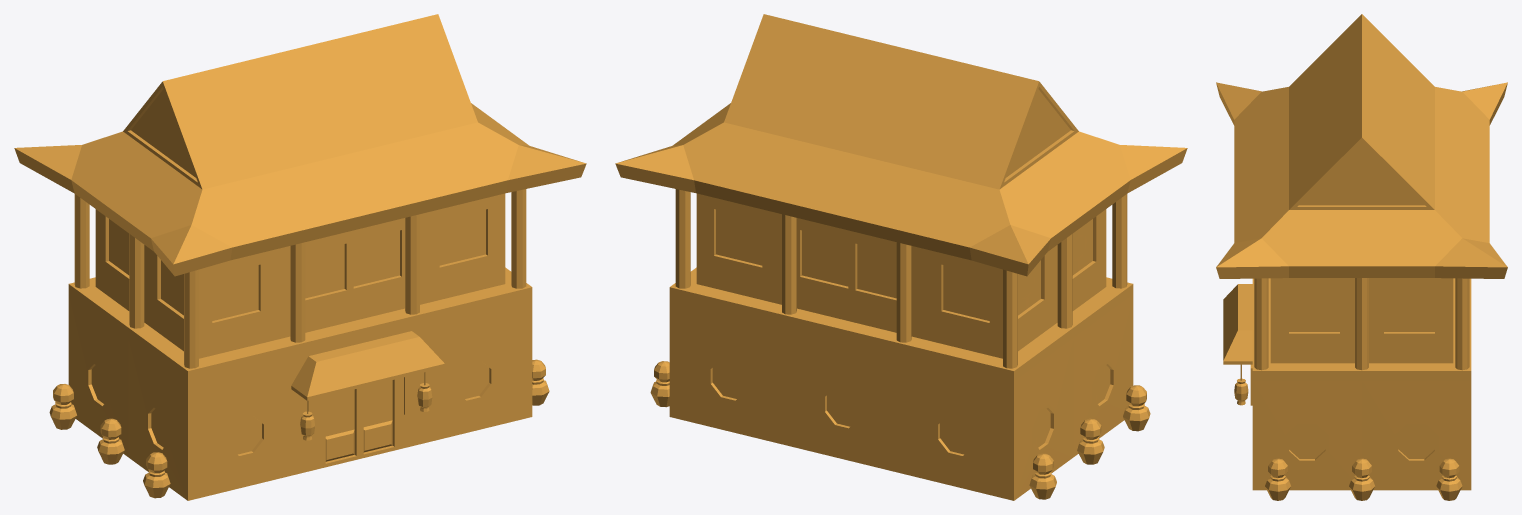
The model's file is building-antique-china.glb.
3 renders of one model, left to right at view 1: azimuth 30°, elevation 25°; view 2: azimuth 150°, elevation 25°; view 3: azimuth 270°, elevation 25°, orthographic. The views are drawn at different scales.
Parts seen in each view (by area): view 1: building-antique-china; view 2: building-antique-china; view 3: building-antique-china.
Boxes of the visible parts, x1,y1,x2,y2 form: building-antique-china: (14, 14, 586, 500); building-antique-china: (615, 14, 1187, 500); building-antique-china: (1216, 14, 1507, 500).
Bounding box in the file's own units: 12 × 10.2 × 8.
